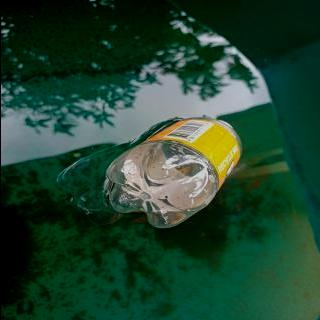bottle: (101, 116, 242, 230)
